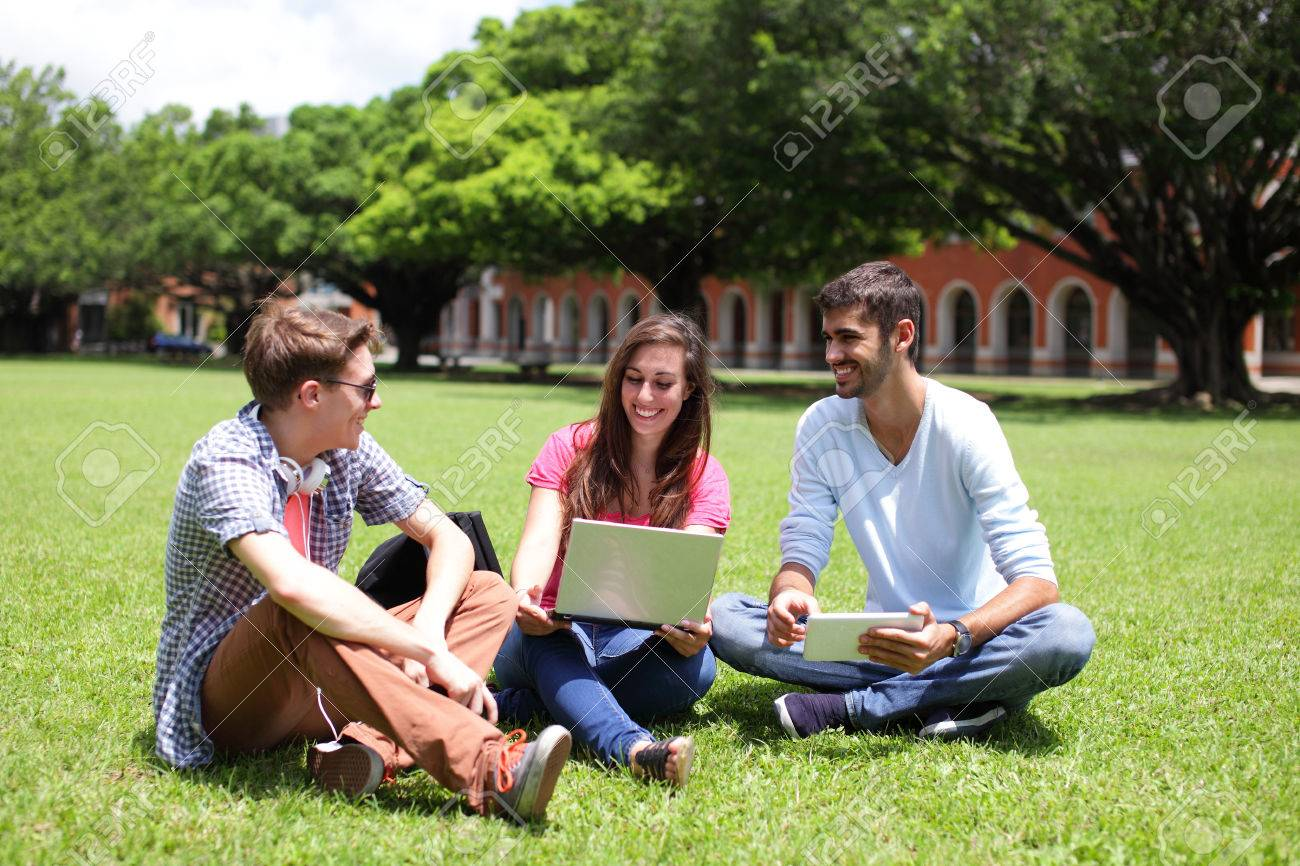Person: (150, 297, 513, 824), (725, 259, 1094, 739), (512, 313, 732, 783)
